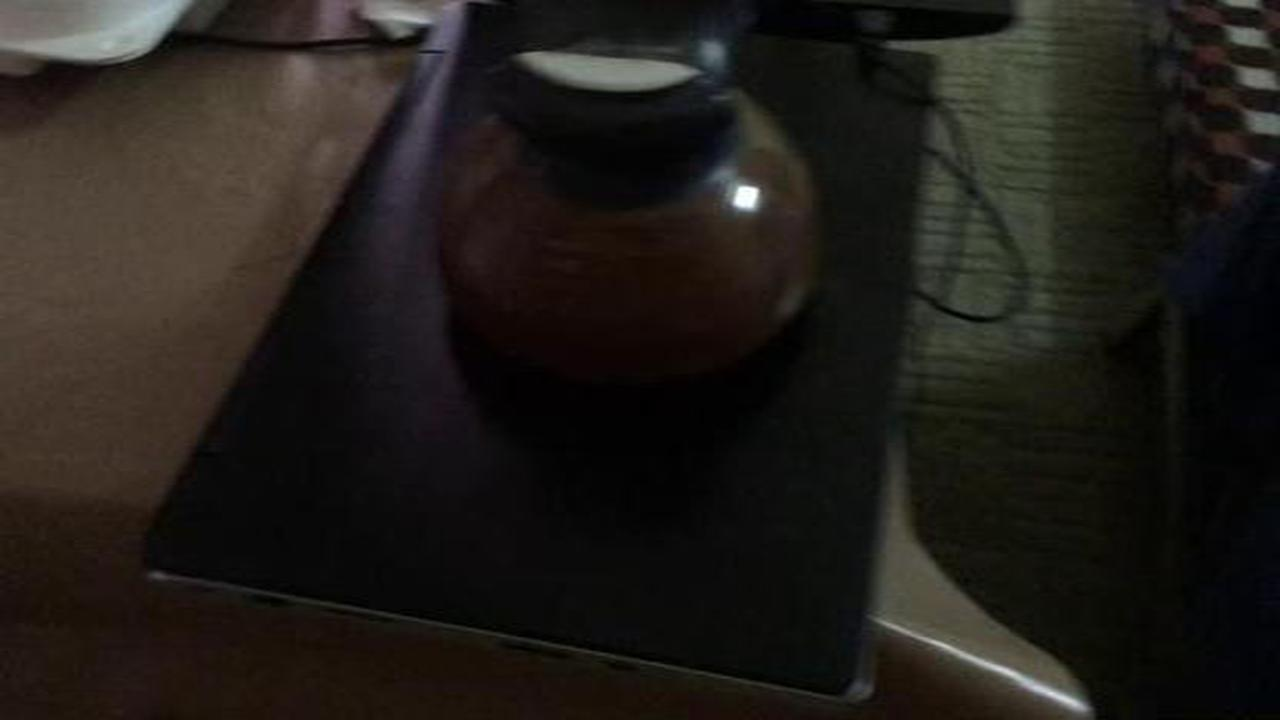insulator_pin: (404, 5, 841, 400)
